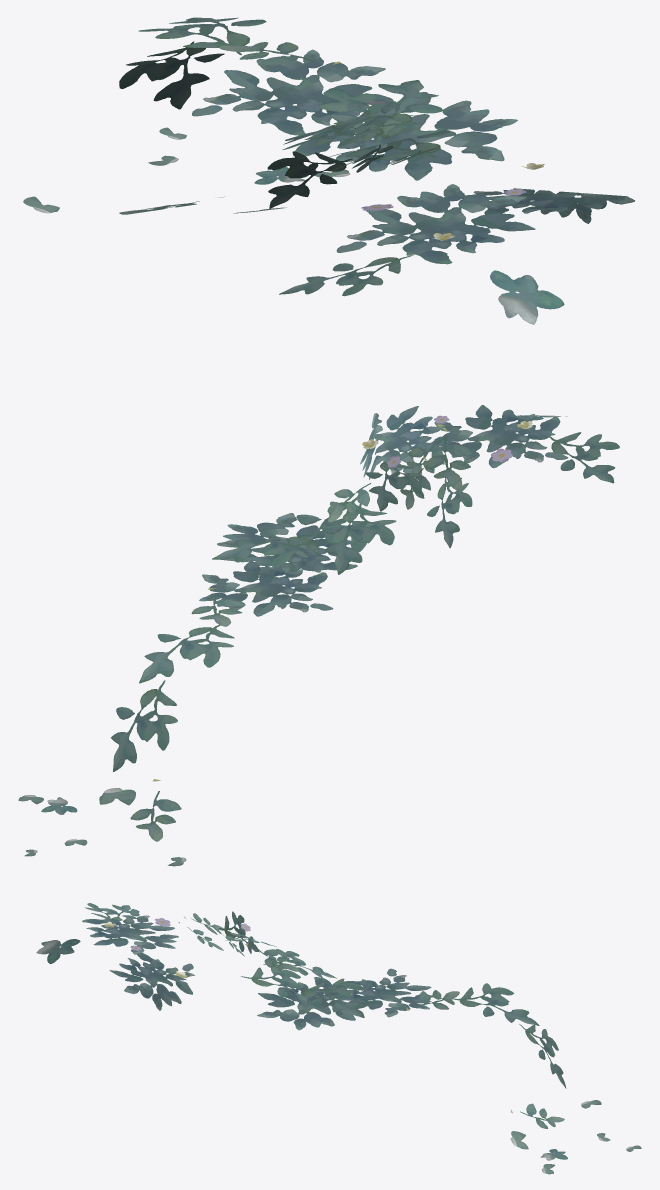
File: pref_sm_beach_winter_techplant02_mirror_lv3.fbx
3 renders of one model, top to bottom at view 1: azimuth 30°, elevation 25°; view 2: azimuth 150°, elevation 25°; view 3: azimuth 270°, elevation 25°, orthographic. The views are drawn at different scales.
Visible parts, largest first — view 1: sm_beach_winter_techplant02a_mirror_lv3, sm_beach_winter_techplant02_mirror_lv3; view 2: sm_beach_winter_techplant02a_mirror_lv3, sm_beach_winter_techplant02_mirror_lv3; view 3: sm_beach_winter_techplant02a_mirror_lv3.
Boxes of the visible parts, x1,y1,x2,y2 form: sm_beach_winter_techplant02a_mirror_lv3: [23, 17, 634, 324]; sm_beach_winter_techplant02_mirror_lv3: [361, 101, 544, 240]; sm_beach_winter_techplant02a_mirror_lv3: [18, 405, 619, 866]; sm_beach_winter_techplant02_mirror_lv3: [362, 415, 532, 467]; sm_beach_winter_techplant02a_mirror_lv3: [36, 903, 641, 1174].
Size of the model in its own units: 3.25 by 2.35 by 7.05.
